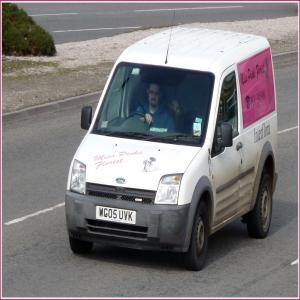Vehicle-registration-plate: (97, 206, 137, 226)
